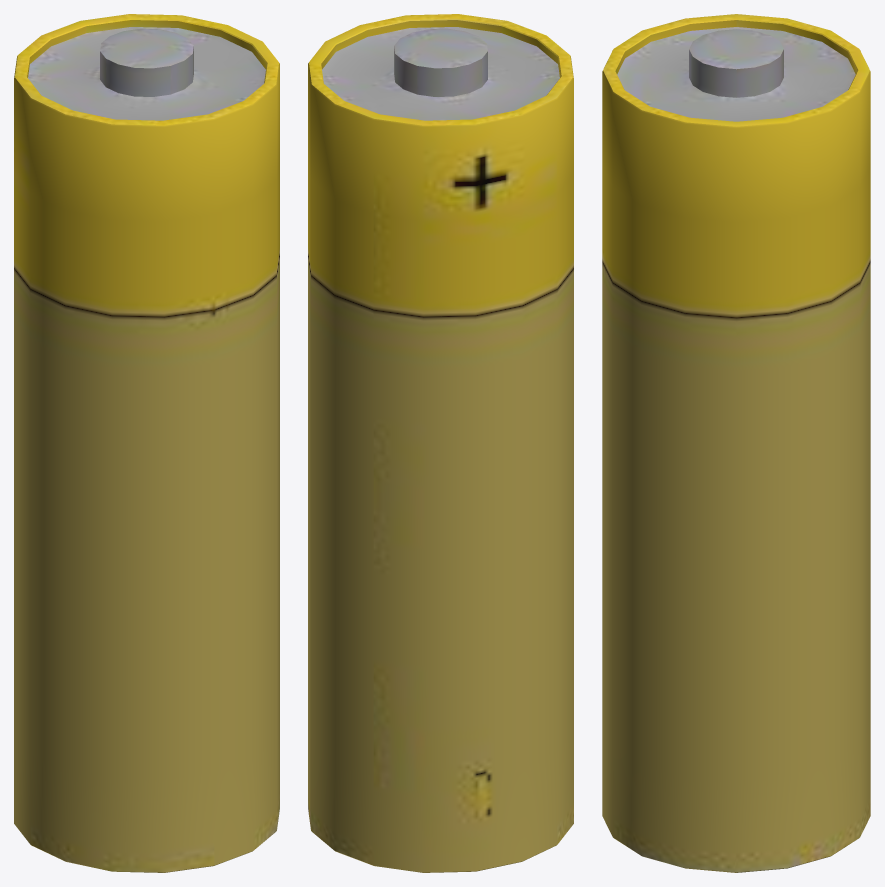
File: battery.glb
3 views of the same model, side by side, from view 1: azimuth 30°, elevation 25°; view 2: azimuth 150°, elevation 25°; view 3: azimuth 270°, elevation 25° (orthographic).
Parts seen in each view (by area): view 1: battery; view 2: battery; view 3: battery.
Boxes of the visible parts, box(x1,y1,x2,y2) form: battery: box(14, 14, 279, 872); battery: box(308, 14, 573, 872); battery: box(602, 14, 870, 872).
Size of the model in its own units: 0.0158 by 0.05 by 0.0158.
Materials: 1 (1 with a texture image).
